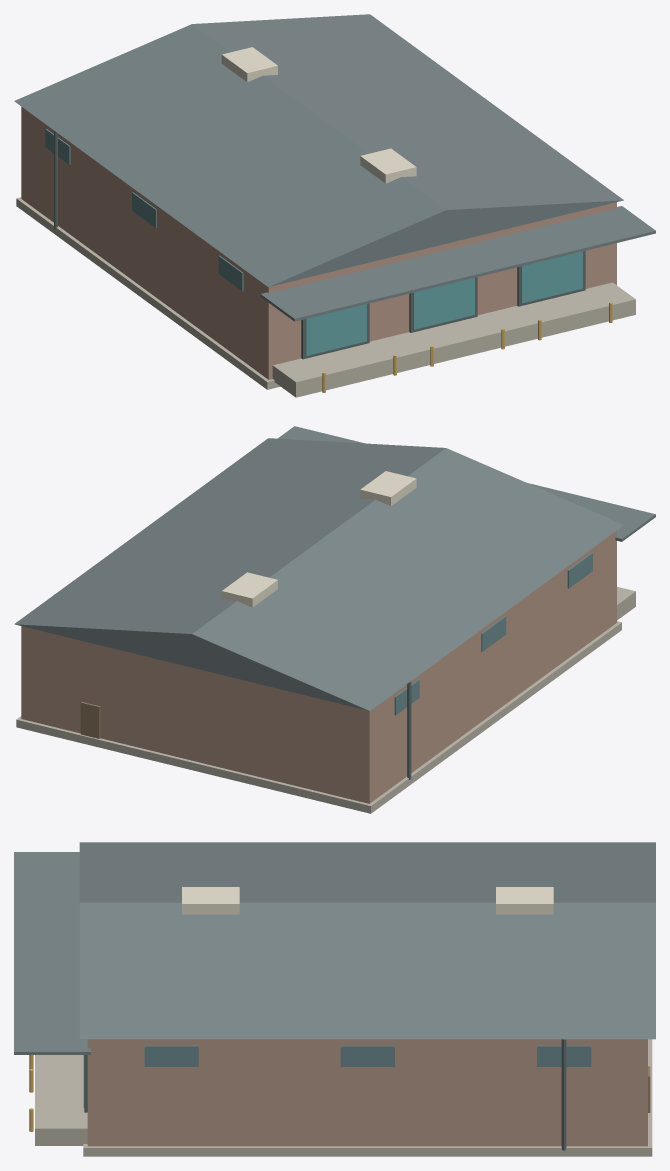
3 views of the same model, one above another, from view 1: azimuth 30°, elevation 25°; view 2: azimuth 150°, elevation 25°; view 3: azimuth 270°, elevation 25° (orthographic). The views are drawn at different scales.
Size of the model in its own units: 27 by 10.28 by 36.65.
